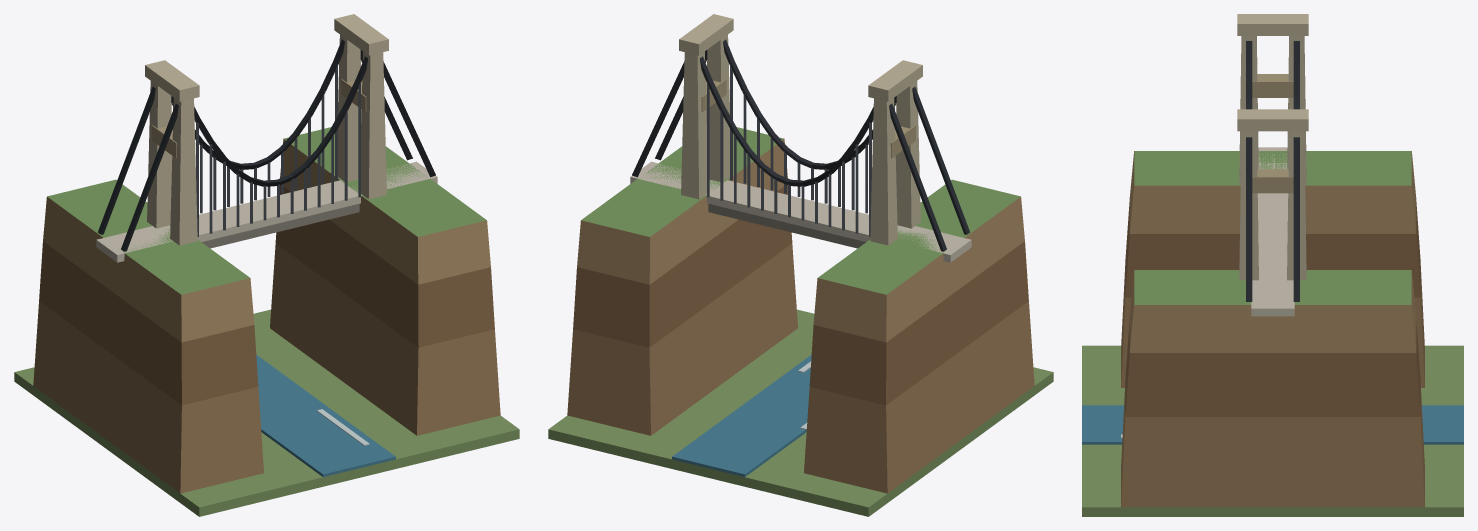
The model's file is pontConstantine.glb.
3 views of the same model, side by side, from view 1: azimuth 30°, elevation 25°; view 2: azimuth 150°, elevation 25°; view 3: azimuth 270°, elevation 25° (orthographic). The views are drawn at different scales.
Parts seen in each view (by area): view 1: pontConstantine; view 2: pontConstantine; view 3: pontConstantine.
Boxes of the visible parts, bbox=[...] form: pontConstantine: bbox=[14, 14, 519, 516]; pontConstantine: bbox=[548, 14, 1053, 516]; pontConstantine: bbox=[1082, 14, 1463, 516].
Size of the model in its own units: 1.76 by 1.88 by 1.76.
